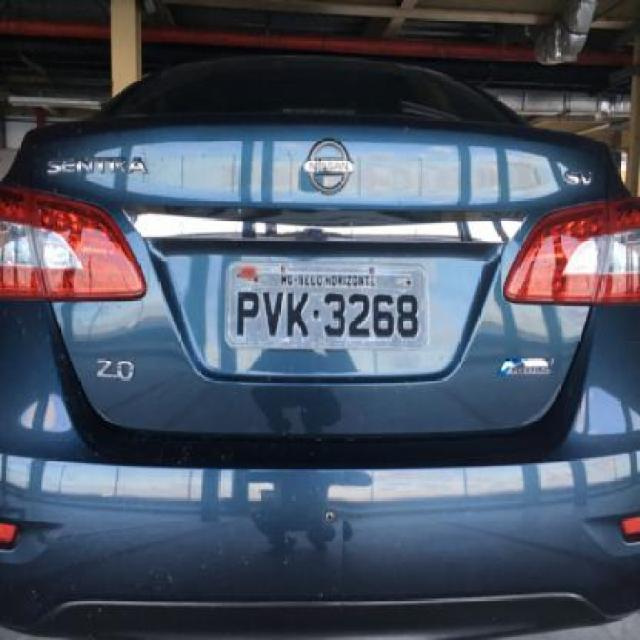old_plate: (218, 258, 432, 356)
